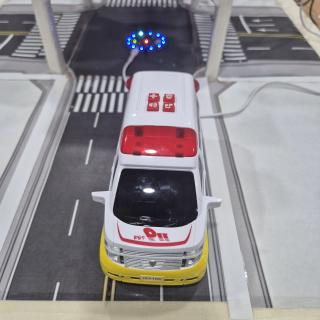Ambulance: (92, 71, 221, 286)
